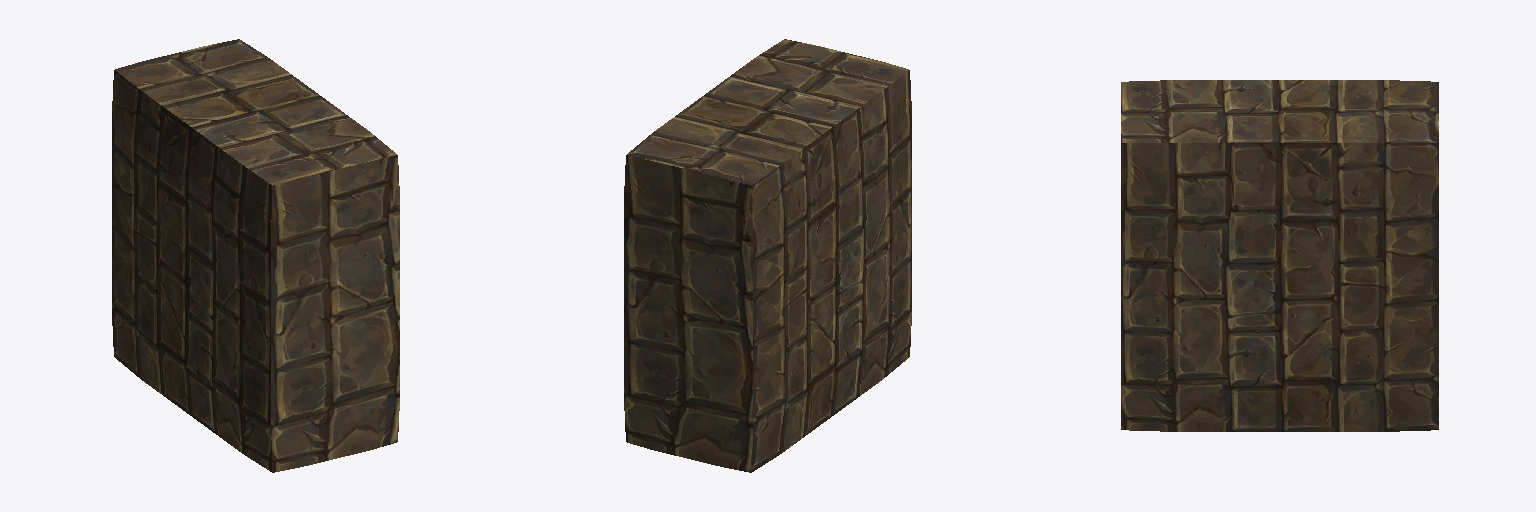
3 views of the same model, side by side, from view 1: azimuth 30°, elevation 25°; view 2: azimuth 150°, elevation 25°; view 3: azimuth 270°, elevation 25° (orthographic).
Parts seen in each view (by area): view 1: Plane; view 2: Plane; view 3: Plane.
Boxes of the visible parts, x1,y1,x2,y2 form: Plane: [112, 39, 399, 472]; Plane: [624, 39, 911, 472]; Plane: [1121, 80, 1438, 431].
Size of the model in its own units: 1 by 2 by 2.
Materials: 1 (1 with a texture image).